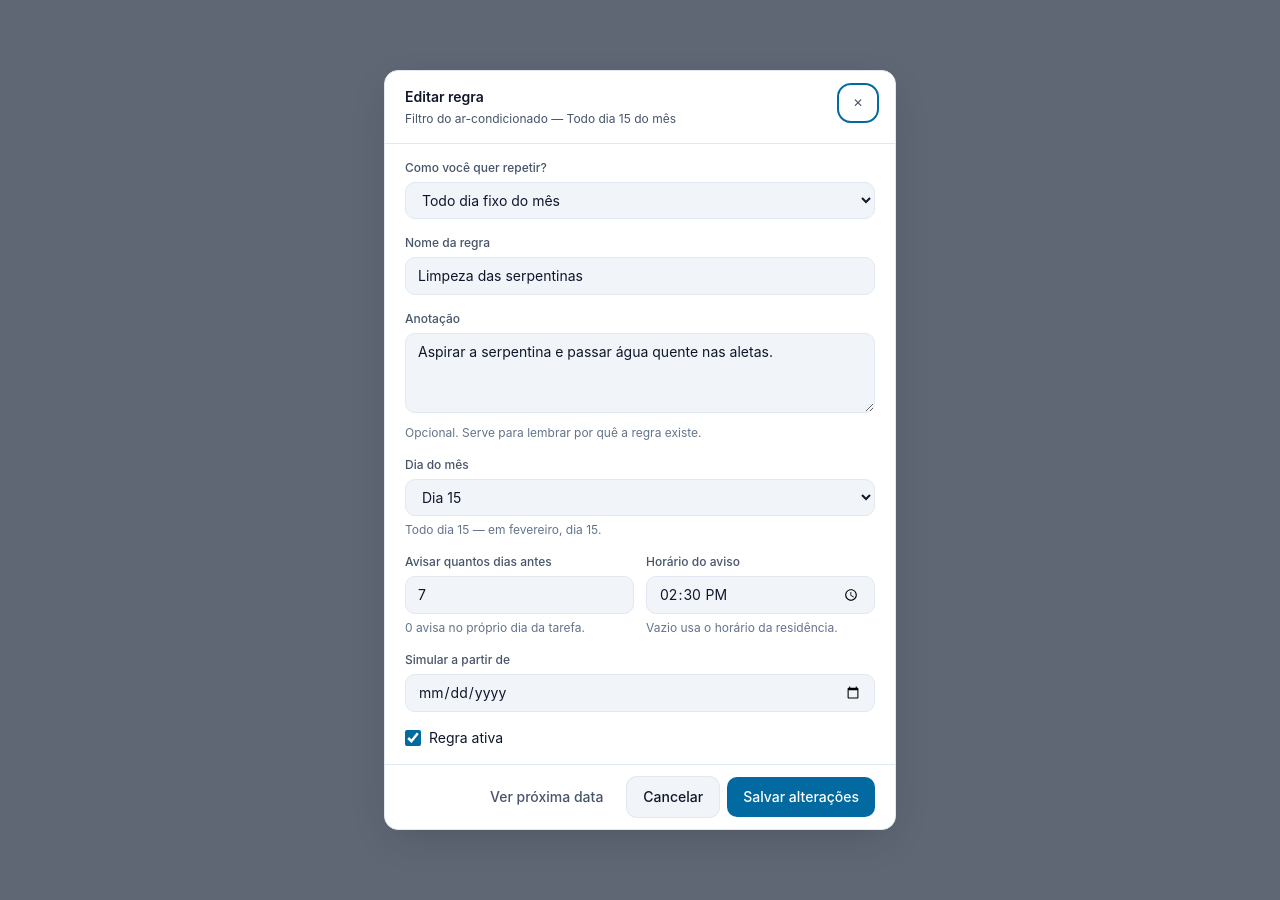
TriggerBuilderModal › na edição, trocar o tipo pelo select corta o campo proibido do PATCH
The width and height of the screenshot is (1280, 900).
Select "Repetir a cada X dias" in the dropdown labelled "Como você quer repetir?": (640, 200) [405,182,875,219]
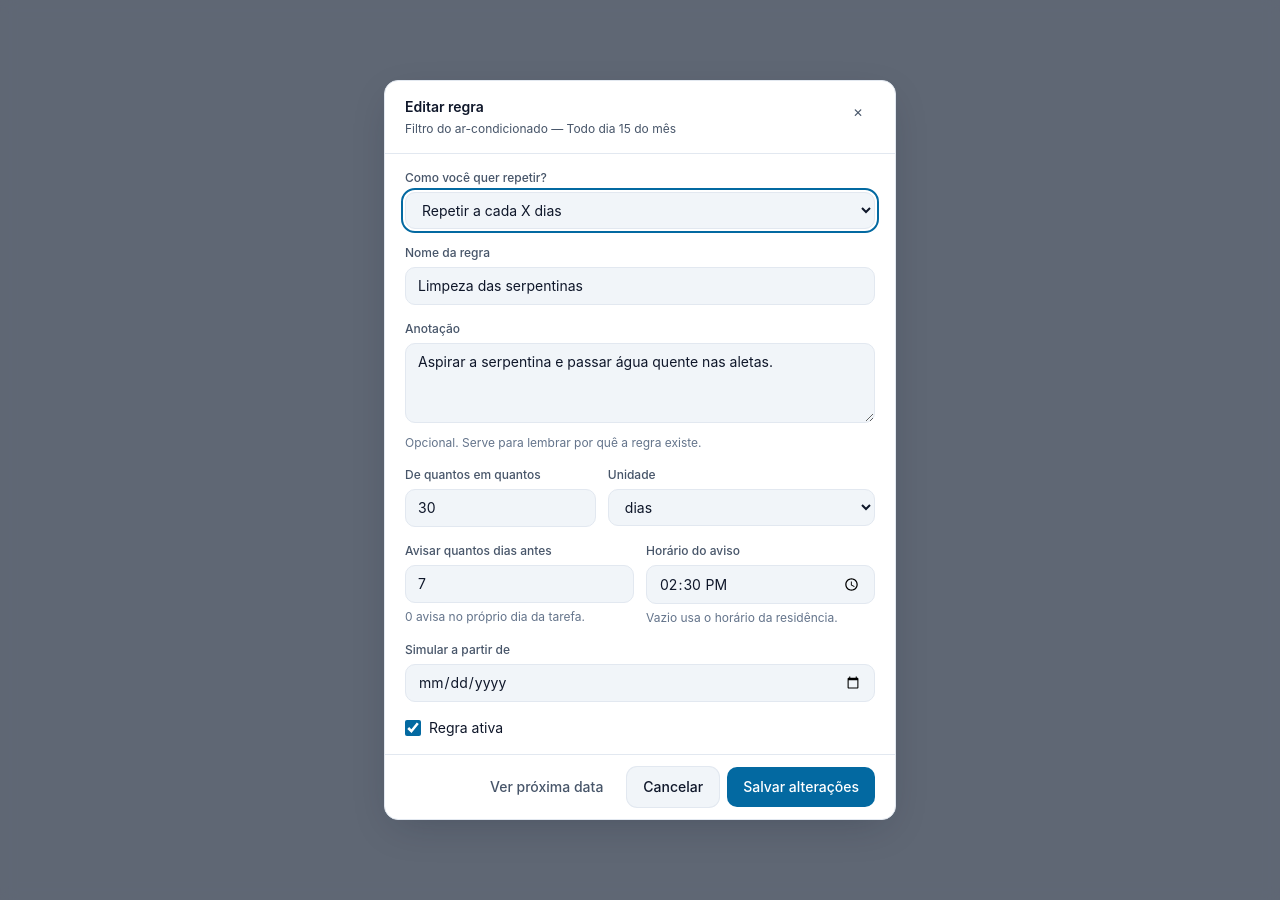
Click the button "Salvar alterações": (801, 787) [727,767,875,807]
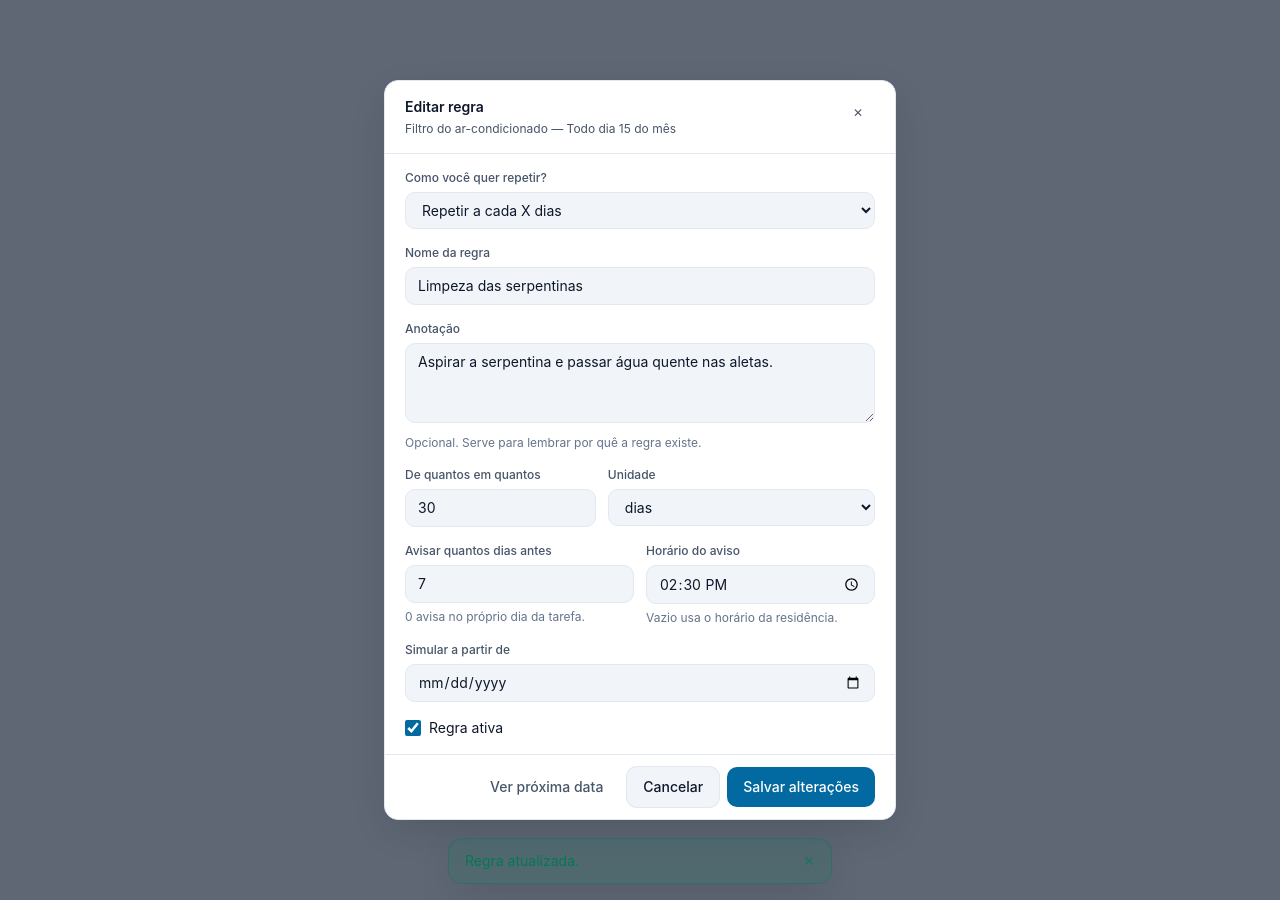
Now the text "Regra atualizada." is shown, box [465,851,579,871]
